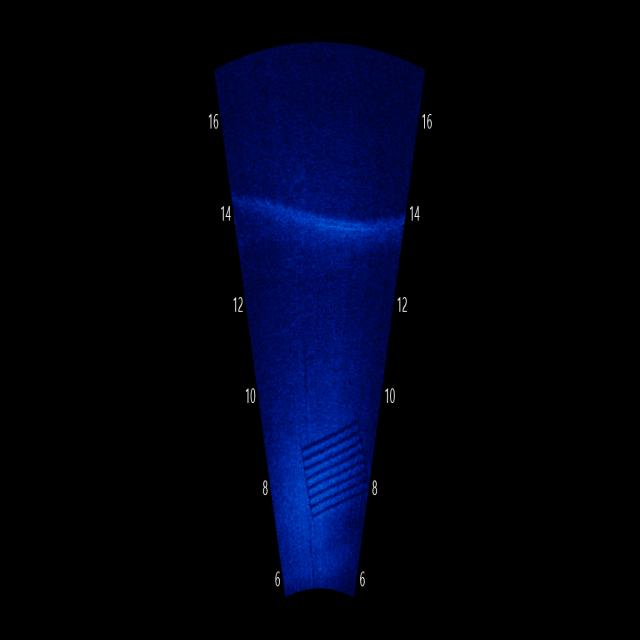square: (296, 410, 379, 530)
